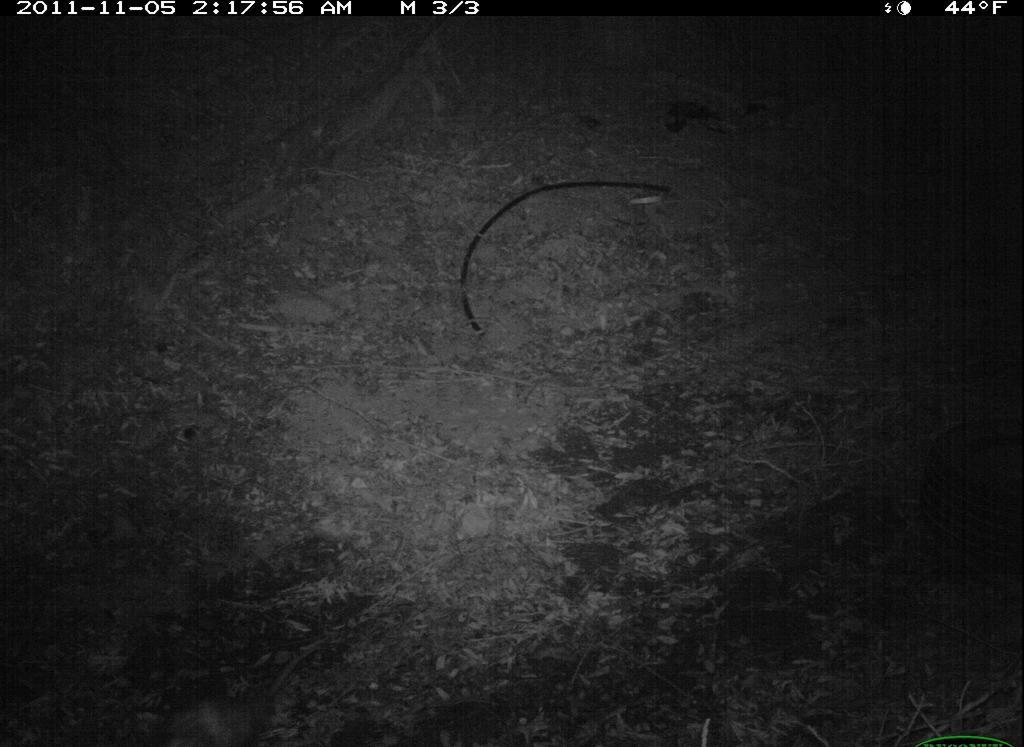opossum: (153, 641, 333, 747)
